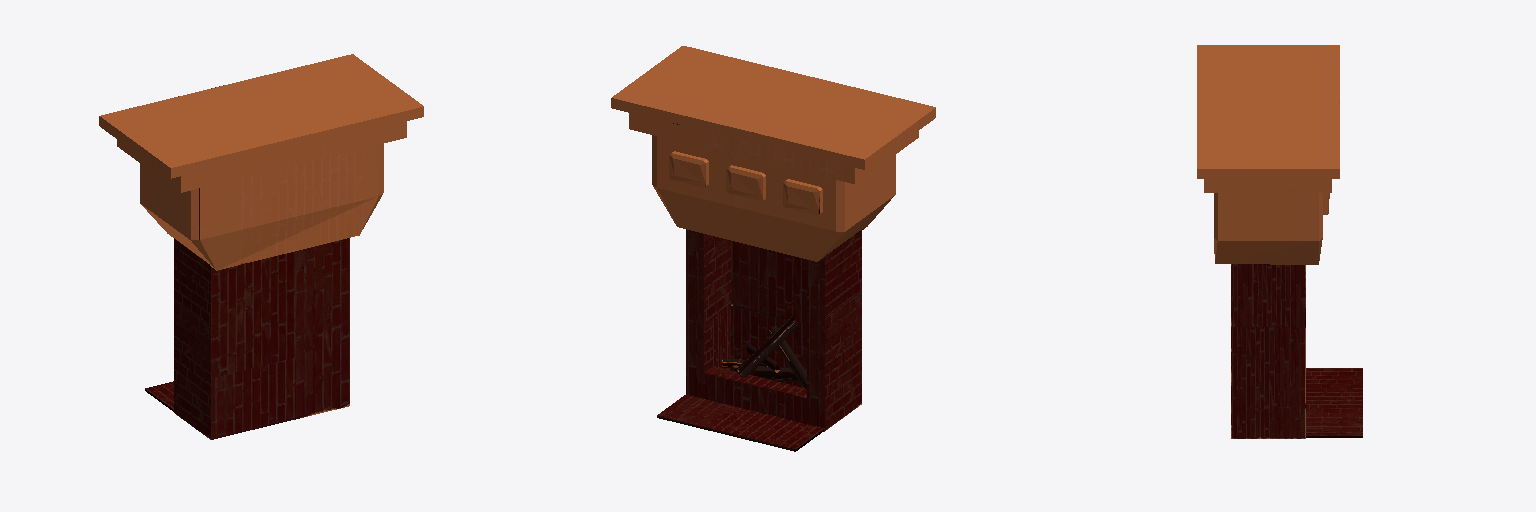
3 renders of one model, left to right at view 1: azimuth 30°, elevation 25°; view 2: azimuth 150°, elevation 25°; view 3: azimuth 270°, elevation 25°, orthographic.
Parts seen in each view (by area): view 1: Cube.026_Cube.029; view 2: Cube.026_Cube.029; view 3: Cube.026_Cube.029.
Part boxes in pixels (left/top/right/bottom): Cube.026_Cube.029: left=99, top=54, right=423, bottom=439; Cube.026_Cube.029: left=611, top=46, right=935, bottom=451; Cube.026_Cube.029: left=1197, top=45, right=1362, bottom=438.
Size of the model in its own units: 17.05 by 19.17 by 9.71.
Materials: 1 (1 with a texture image).